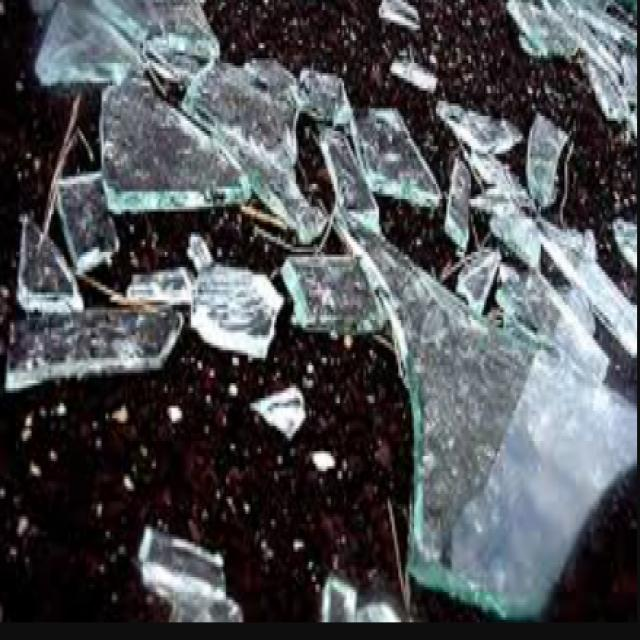PecahanKaca: (0, 0, 636, 620)
